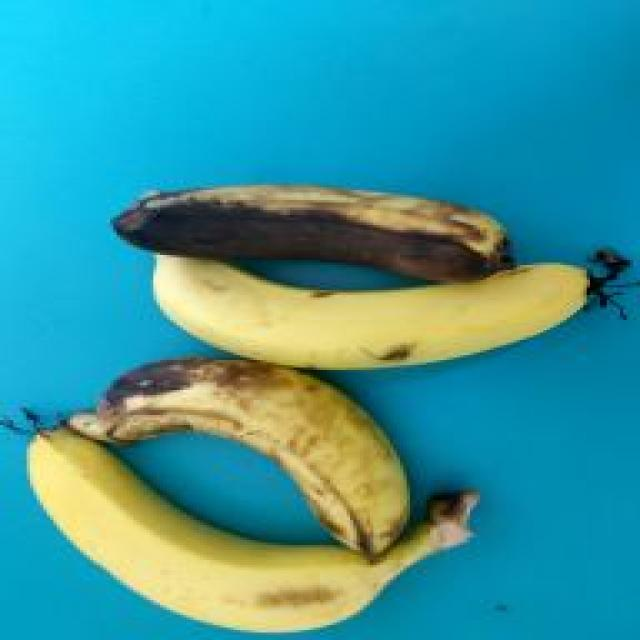Organik: (13, 414, 479, 633), (121, 234, 634, 368), (75, 346, 404, 544), (94, 163, 513, 278)
